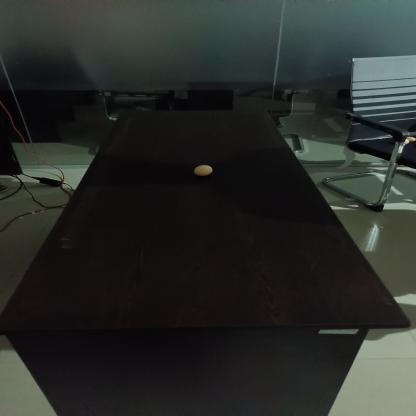egg: (192, 164, 214, 178)
